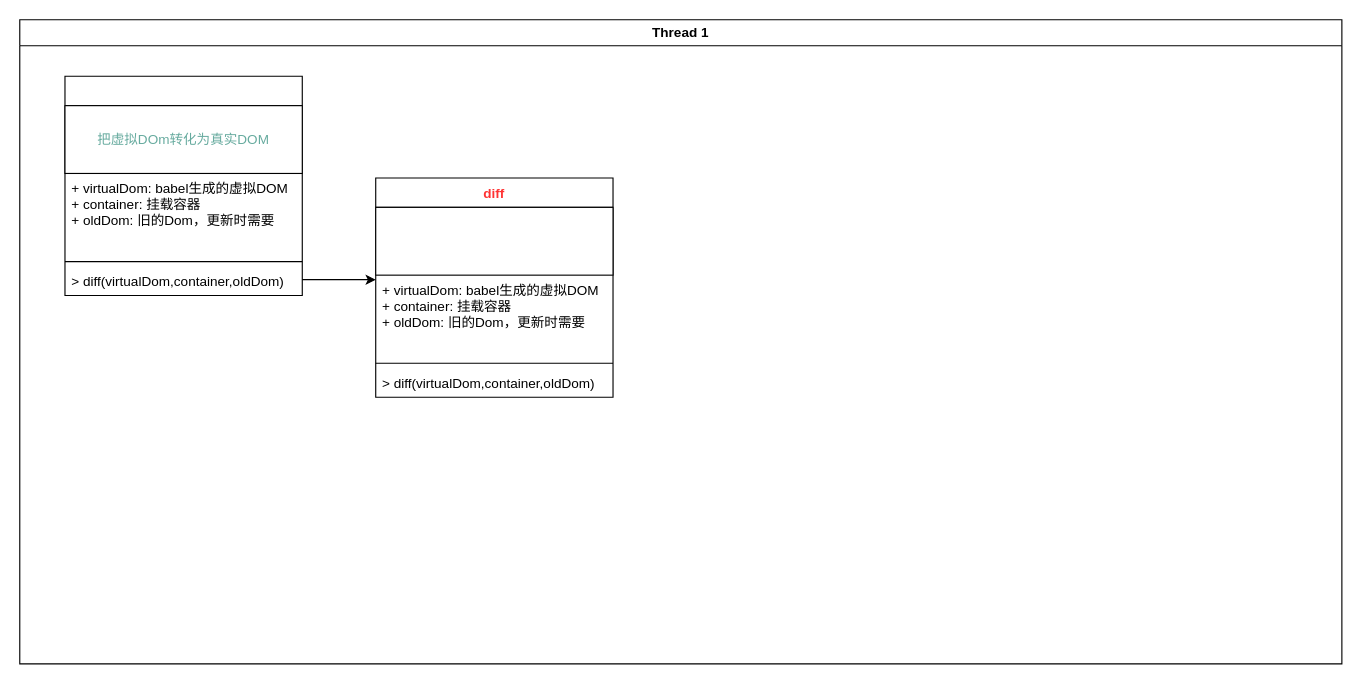
This 1362x684 diagram has some shape labels left out. The box of each missing label's shape, as (x1, y1, x2, y2) in pixels:
render: (64, 75, 302, 295)
判断是否存在旧的DOM，不存在则直接挂载，存在则更新: (375, 206, 613, 275)
